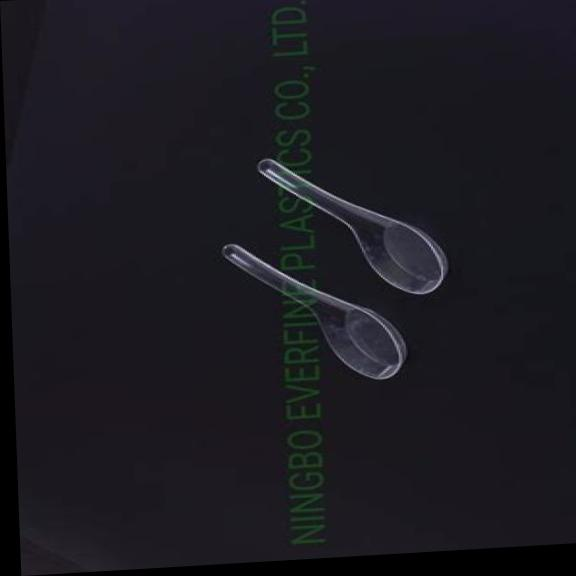Plastik: (259, 158, 446, 293), (224, 244, 405, 378)
